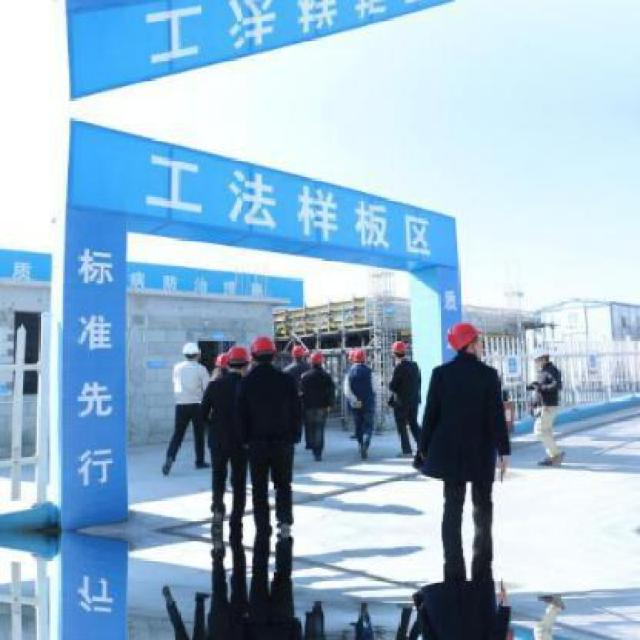helmet: (444, 320, 484, 351), (251, 334, 275, 358), (228, 345, 252, 366), (351, 349, 369, 366), (182, 343, 200, 359), (528, 348, 549, 360), (289, 344, 306, 358), (216, 352, 230, 368), (390, 340, 408, 352), (308, 351, 322, 366)
